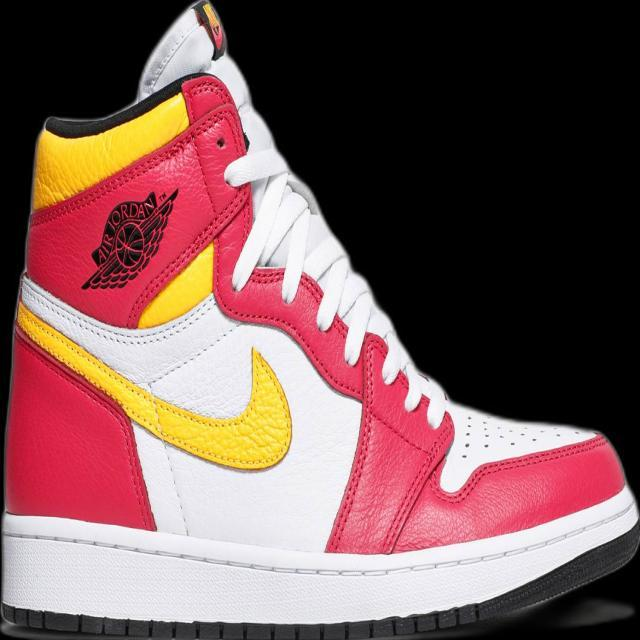J1_InsoleChar: (1, 1, 637, 638)
J1_ShoeLogo: (80, 186, 179, 291)
J1_StitchPattern: (135, 5, 451, 431), (9, 276, 603, 497), (223, 151, 601, 493), (2, 496, 637, 635), (224, 154, 450, 429), (13, 286, 293, 471), (1, 602, 481, 638), (435, 402, 601, 495), (455, 409, 595, 458), (190, 0, 227, 60)
